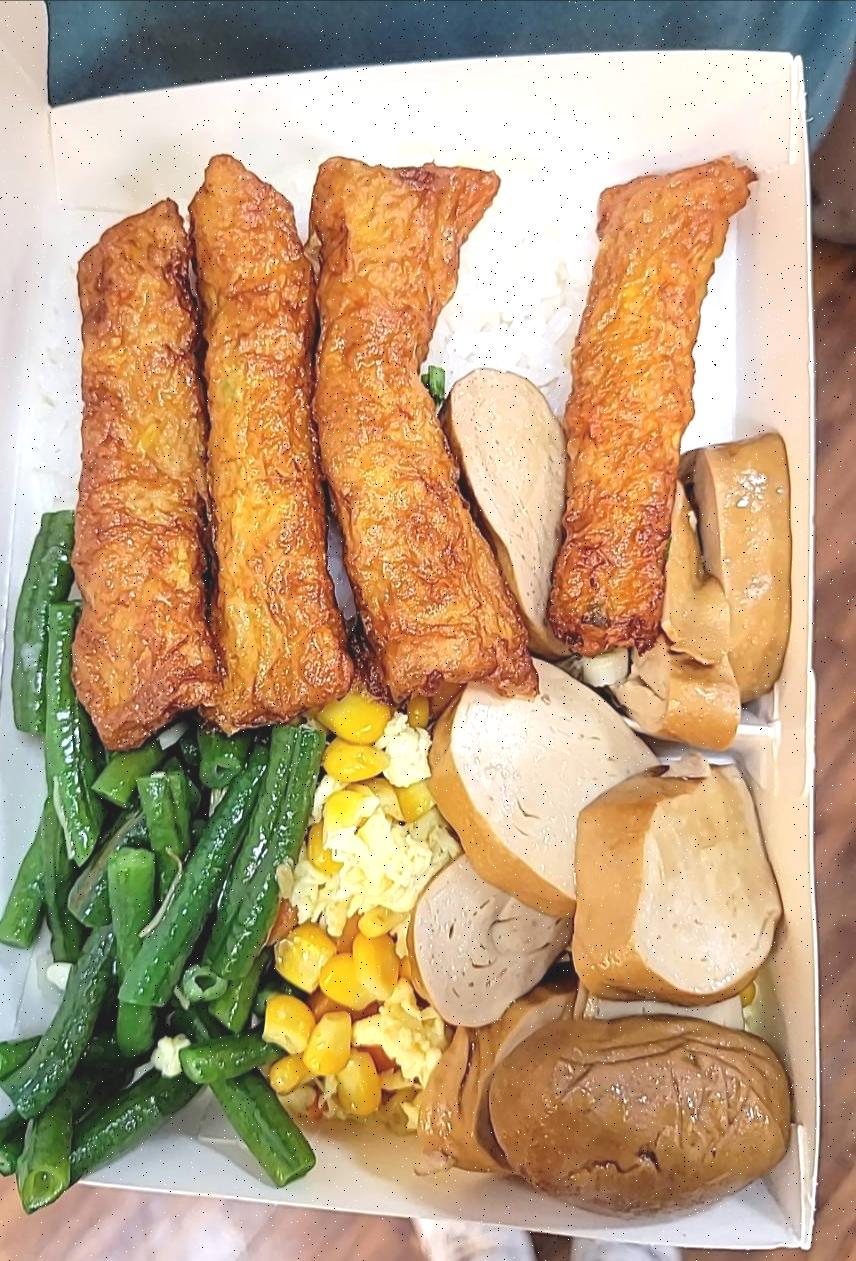big grilled chicken leg: (0, 18, 840, 1261)
big herbal chicken leg: (99, 168, 618, 616)
braised fish fillet: (446, 369, 780, 1214), (24, 685, 310, 1206), (268, 718, 456, 1158)
braised pork: (40, 131, 740, 726)
